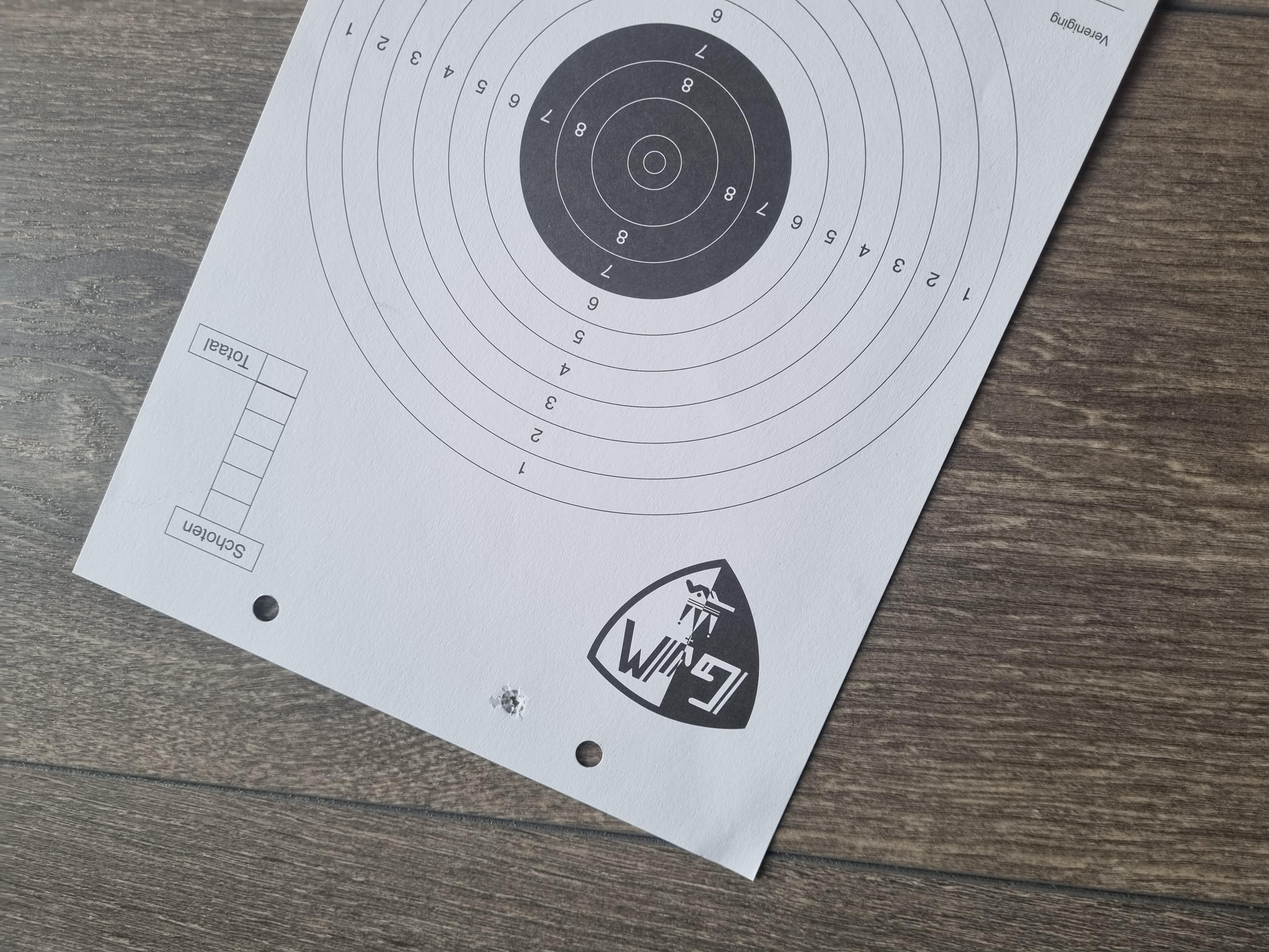hole: (311, 374, 355, 395)
